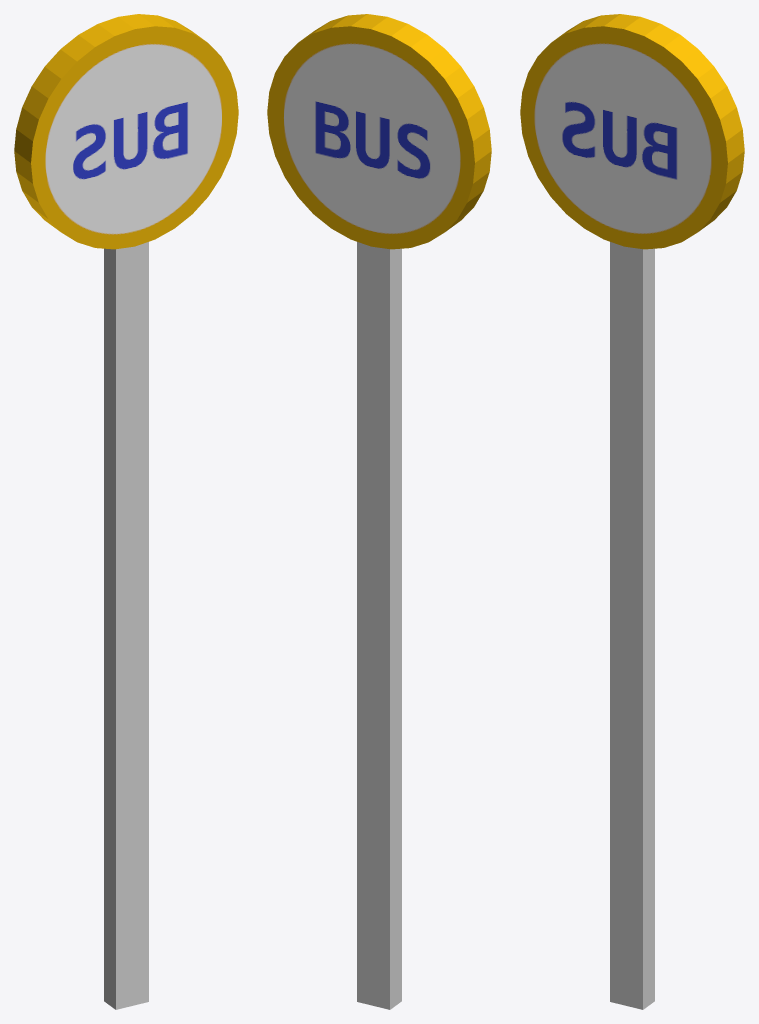
3 views of the same model, side by side, from view 1: azimuth 30°, elevation 25°; view 2: azimuth 150°, elevation 25°; view 3: azimuth 330°, elevation 25° (orthographic).
Parts seen in each view (by area): view 1: Cylinder, Pole; view 2: Cylinder, Pole; view 3: Cylinder, Pole.
Boxes of the visible parts, x1,y1,x2,y2 form: Cylinder: [14, 14, 238, 249]; Pole: [104, 242, 148, 1009]; Cylinder: [267, 14, 491, 249]; Pole: [357, 242, 401, 1009]; Cylinder: [520, 14, 744, 249]; Pole: [610, 242, 654, 1009].
Bounding box in the file's own units: 1.65 × 7.4 × 0.2303.
1 material, 1 textured.
